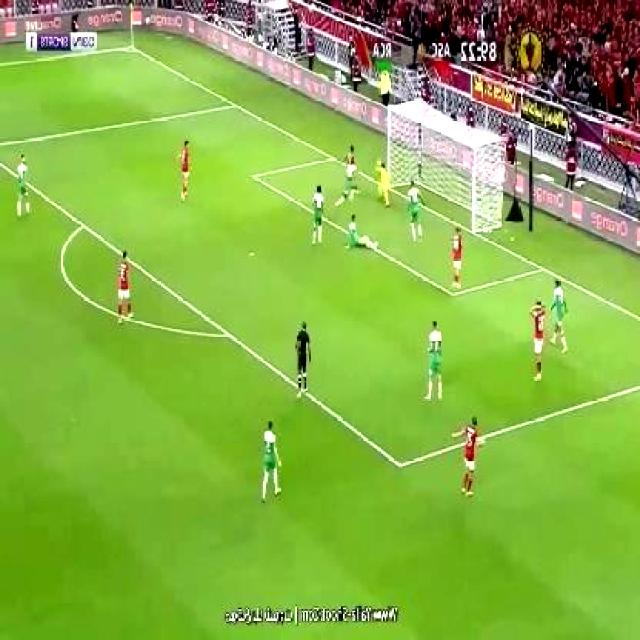bigarea_bottom_inner: (389, 446, 414, 480)
bigarea_top_outter: (228, 94, 245, 114)
bottom_arc_area_intersection: (218, 320, 240, 348)
corner: (123, 38, 142, 54)
smallarea_bottom_inner: (444, 277, 464, 308)
smallarea_bottom_outter: (534, 256, 554, 278)
smallarea_top_inner: (246, 165, 265, 188)
smallarea_top_outter: (326, 146, 343, 168)
top_arc_area_intersection: (77, 214, 92, 234), (26, 180, 39, 195)
